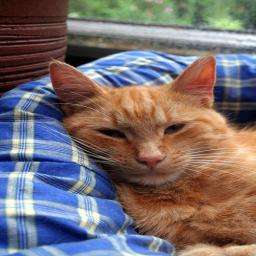catnose: (136, 154, 167, 170)
